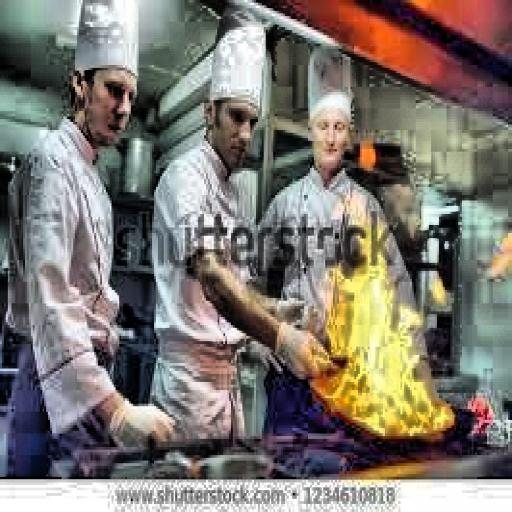fire: (298, 233, 472, 439)
